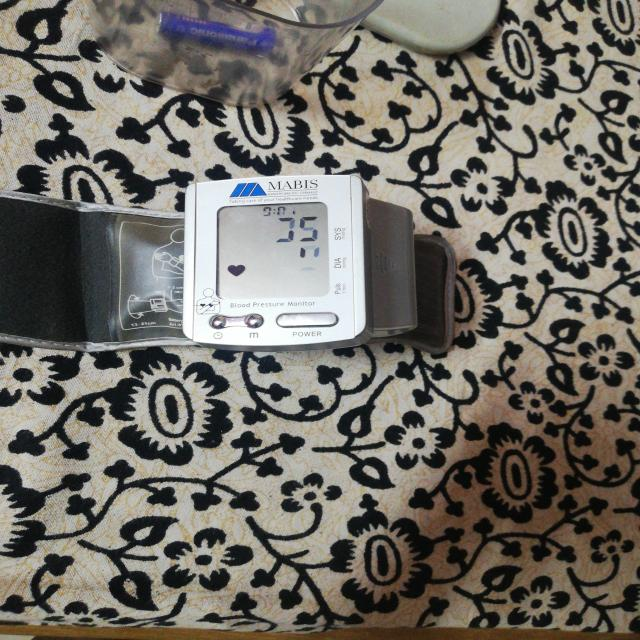display: (216, 202, 331, 299)
gauge: (184, 175, 368, 349), (290, 297, 291, 301)
